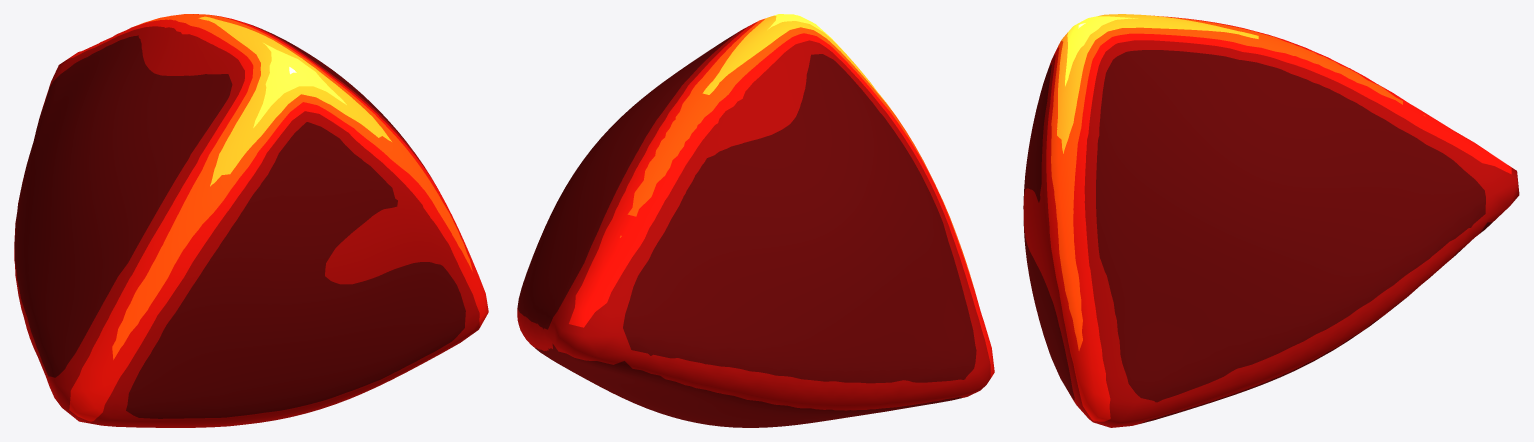
File: molten_crystal_81.glb
The picture shows the model from 3 angles, left to right: view 1: azimuth 30°, elevation 25°; view 2: azimuth 150°, elevation 25°; view 3: azimuth 270°, elevation 25°; orthographic projection. The views are drawn at different scales.
Visible parts, largest first — view 1: molten_crystal_81; view 2: molten_crystal_81; view 3: molten_crystal_81.
Part boxes in pixels (x1,y1,x2,y2): molten_crystal_81: (14, 14, 488, 427); molten_crystal_81: (517, 14, 994, 427); molten_crystal_81: (1023, 14, 1519, 427).
Bounding box in the file's own units: 20.71 × 16.93 × 21.63.
